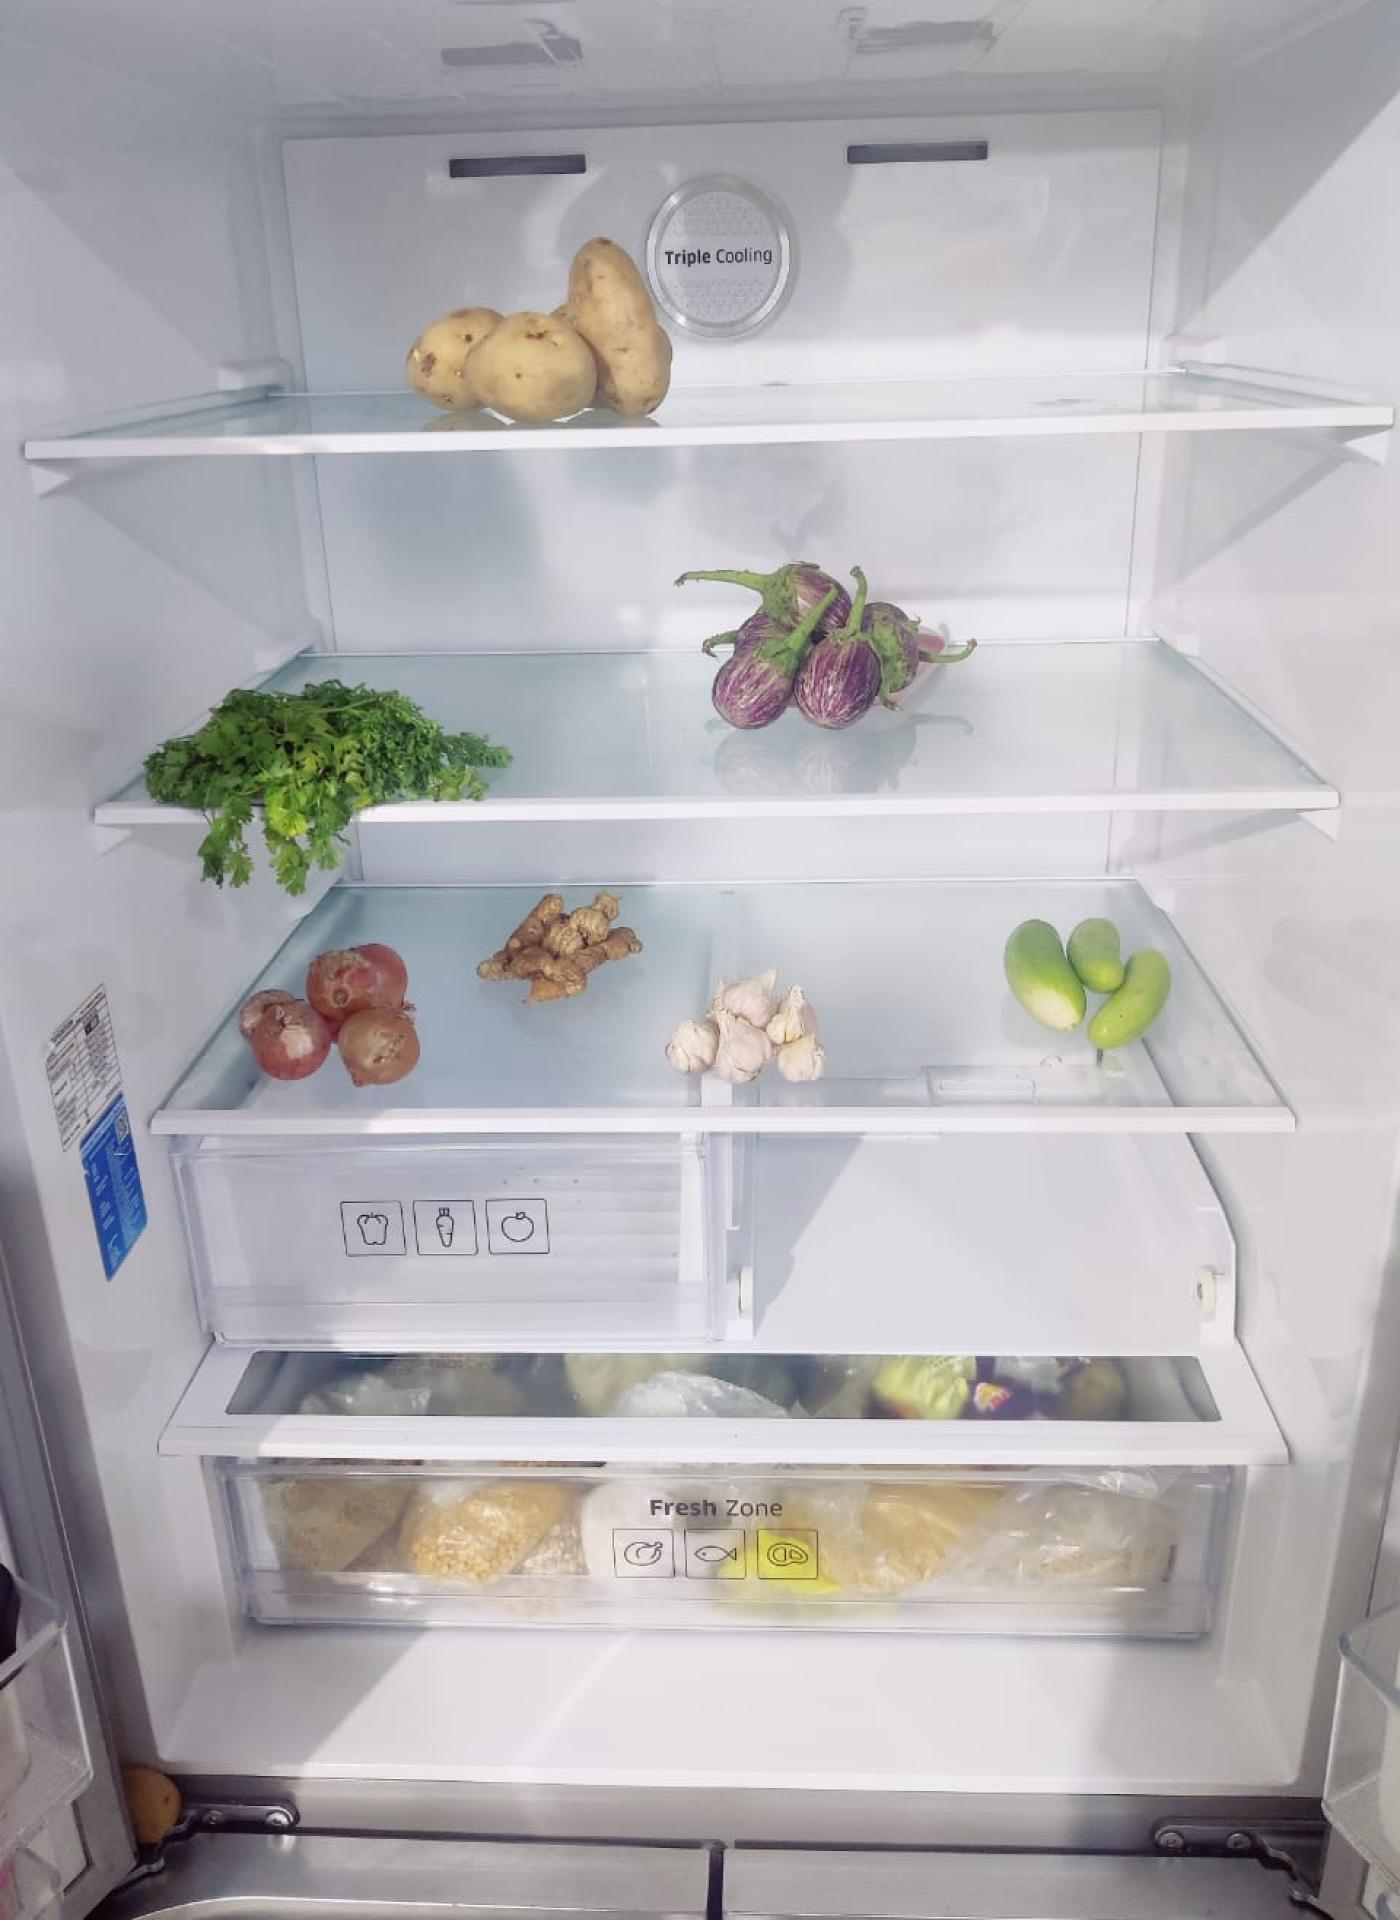brinjal: (696, 566, 930, 724)
coriander: (148, 687, 492, 845)
cucumber: (1002, 909, 1172, 1048)
garlic: (672, 967, 833, 1087)
ginger: (479, 890, 641, 1000)
onion: (243, 942, 422, 1088)
potato: (410, 246, 678, 425)
